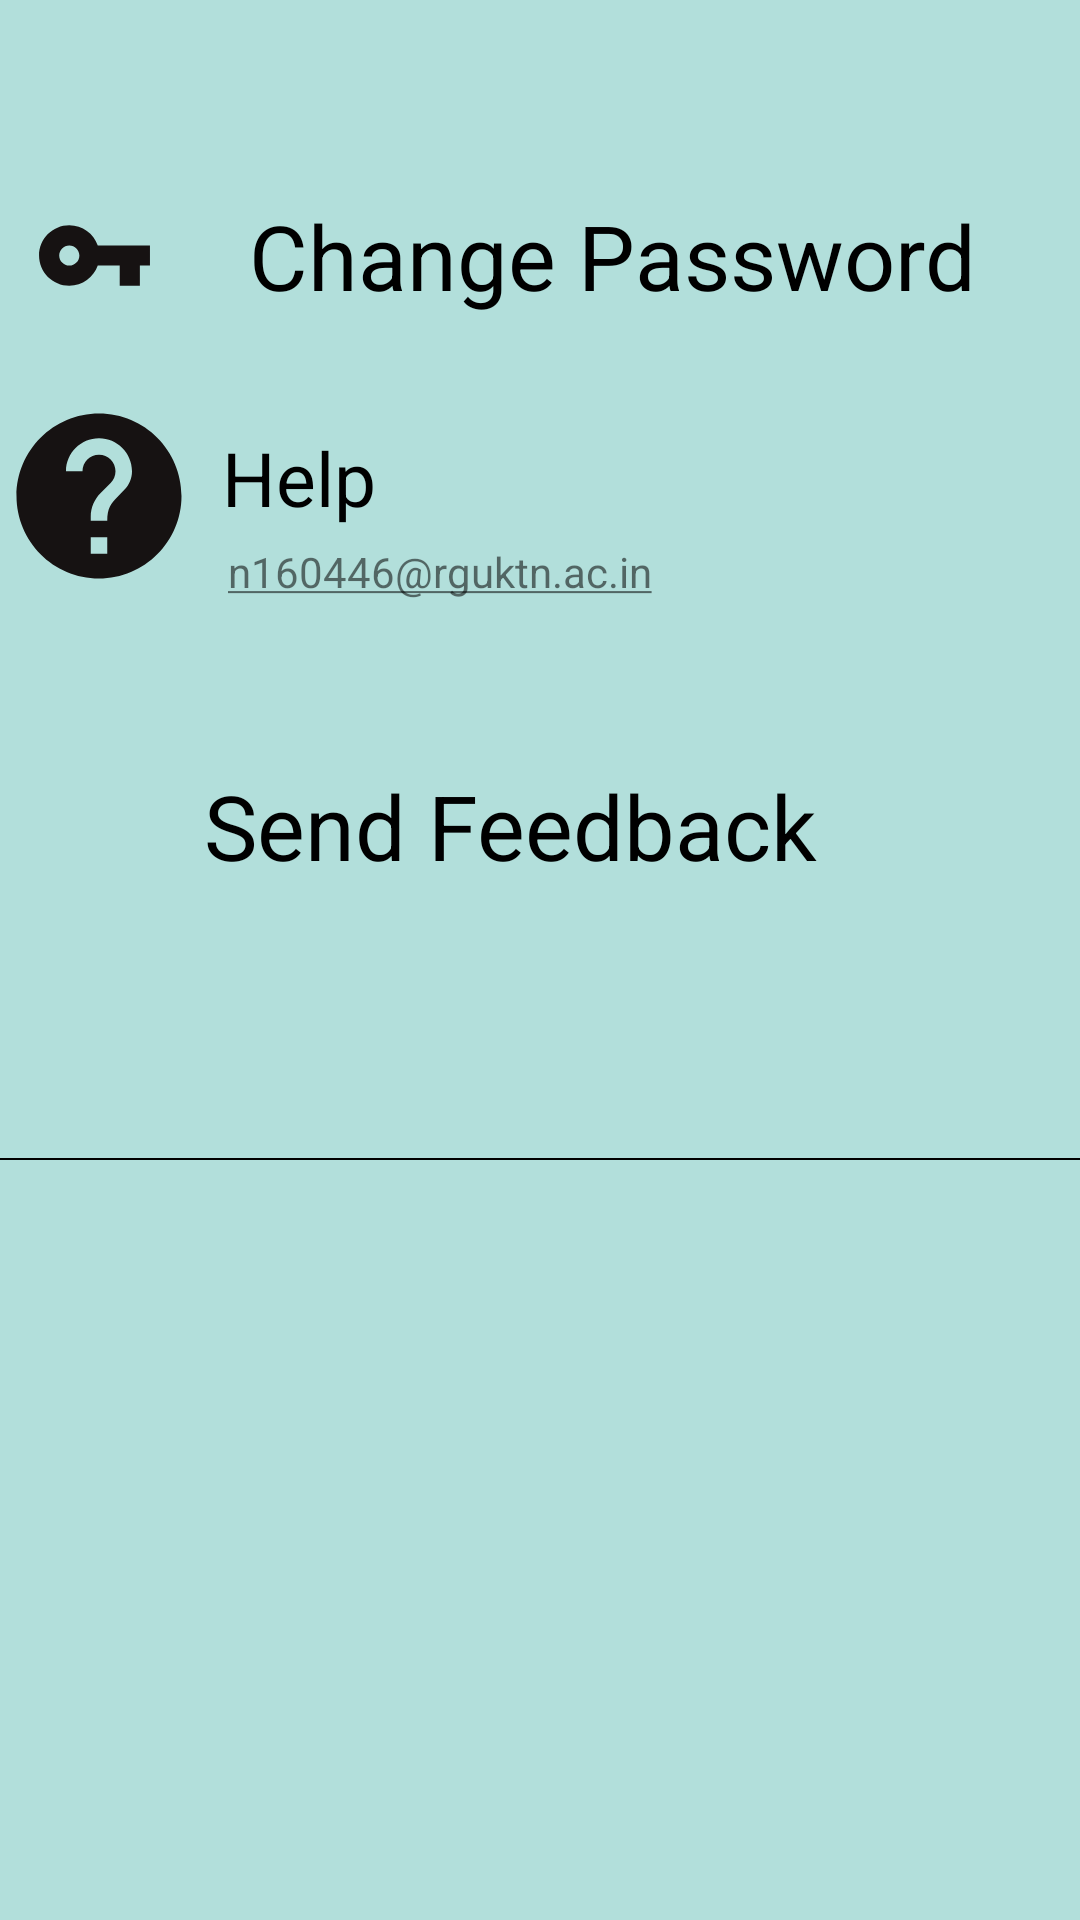

Icons on this 1080w x 1920h Android screen, each with the point to tap as [x,y]:
key: [94,255]
